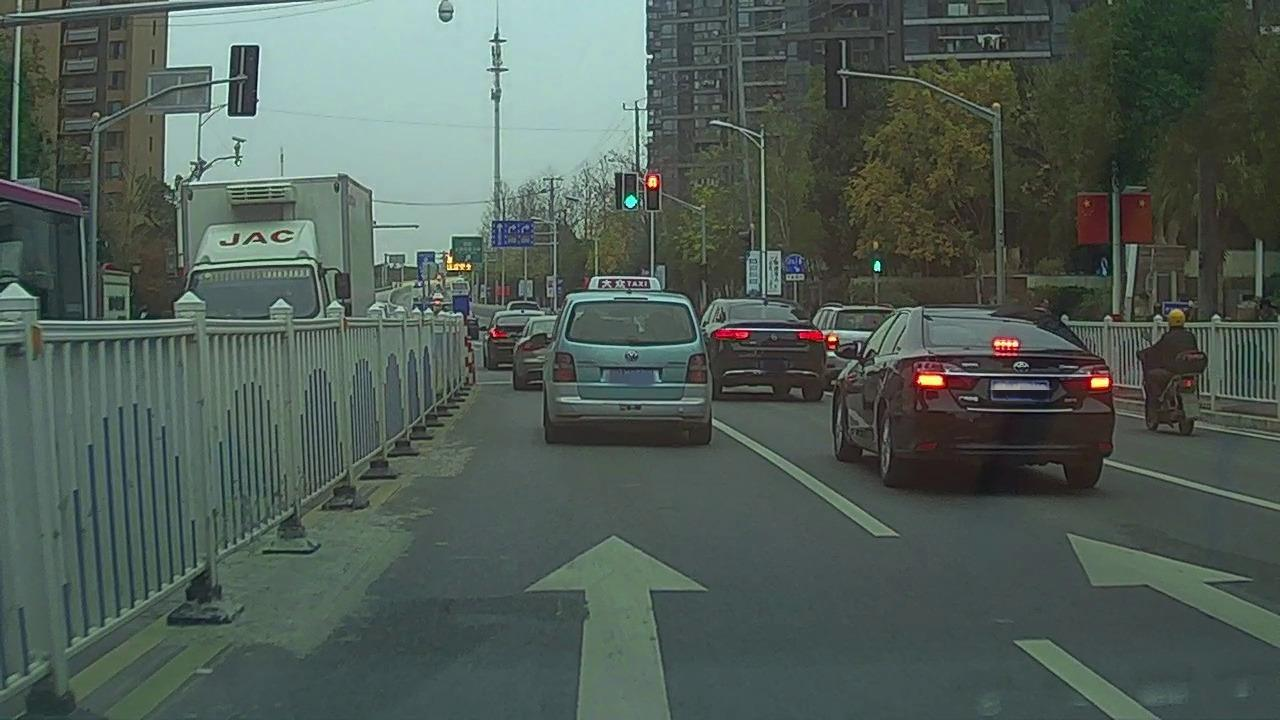traffic_light: (645, 170, 660, 210), (623, 173, 636, 208)
